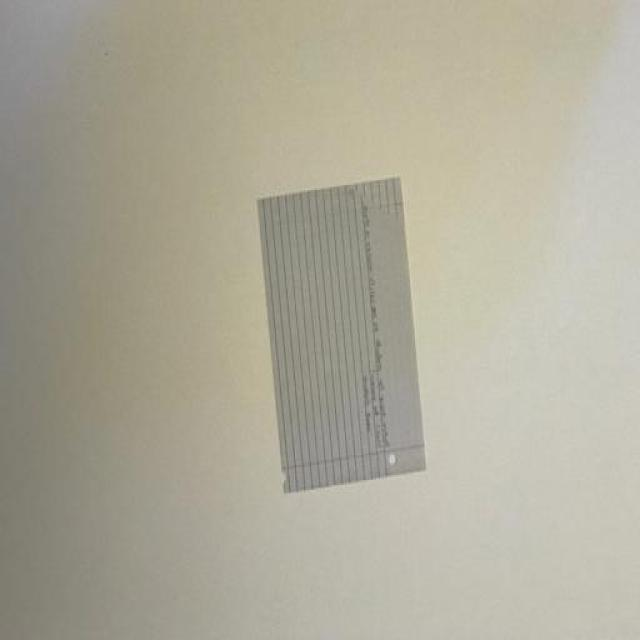paper: (256, 175, 430, 492)
